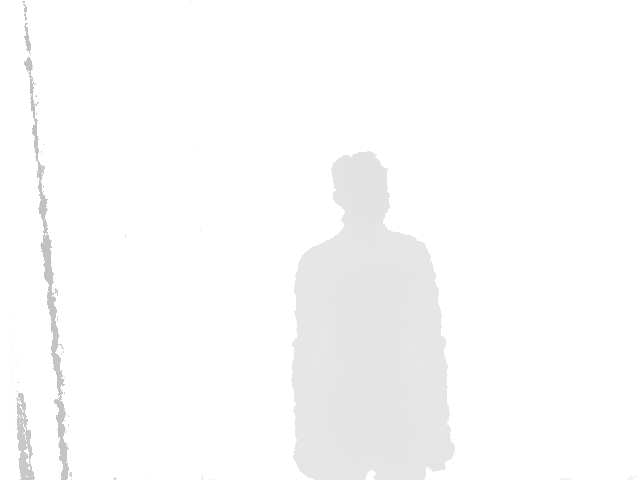head: (330, 151, 391, 235)
person: (289, 151, 456, 480)
